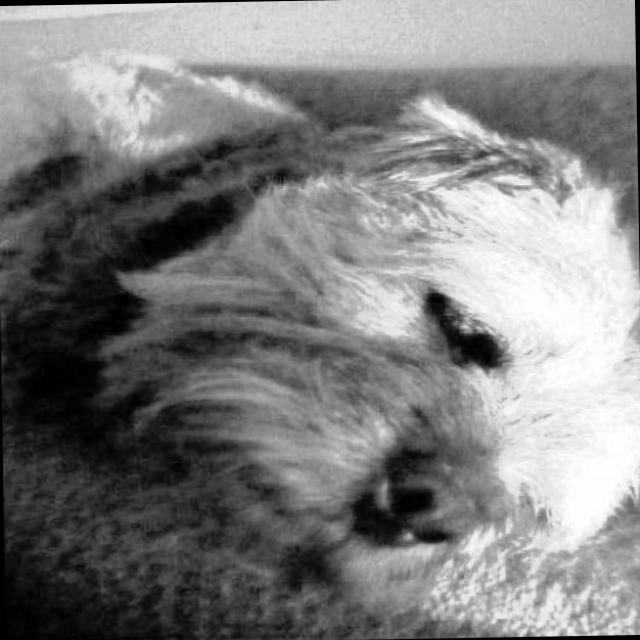Dog: (0, 31, 640, 615)
